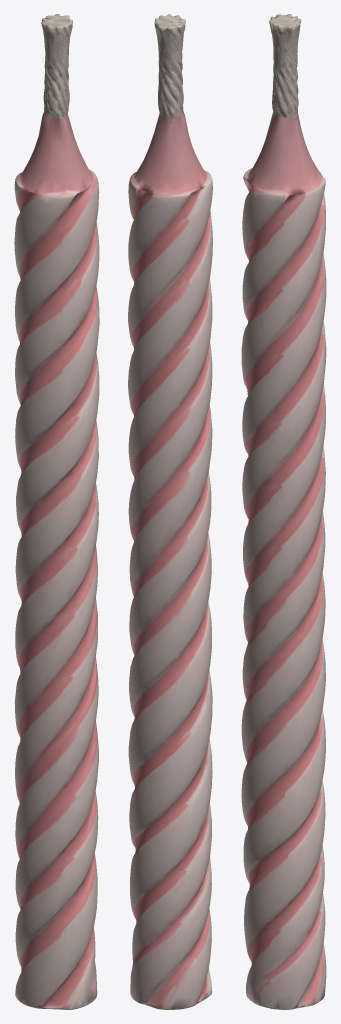
The model's file is bk-berry-currant-red.glb.
3 views of the same model, side by side, from view 1: azimuth 30°, elevation 25°; view 2: azimuth 210°, elevation 25°; view 3: azimuth 270°, elevation 25° (orthographic).
Visible parts, largest first — view 1: node_0; view 2: node_0; view 3: node_0.
Part boxes in pixels (x1=…): node_0: x1=14, y1=14, x2=99, y2=1009; node_0: x1=128, y1=14, x2=212, y2=1009; node_0: x1=241, y1=14, x2=326, y2=1009.
Size of the model in its own units: 0.0943 by 1.2 by 0.0946.
1 material, 1 textured.
